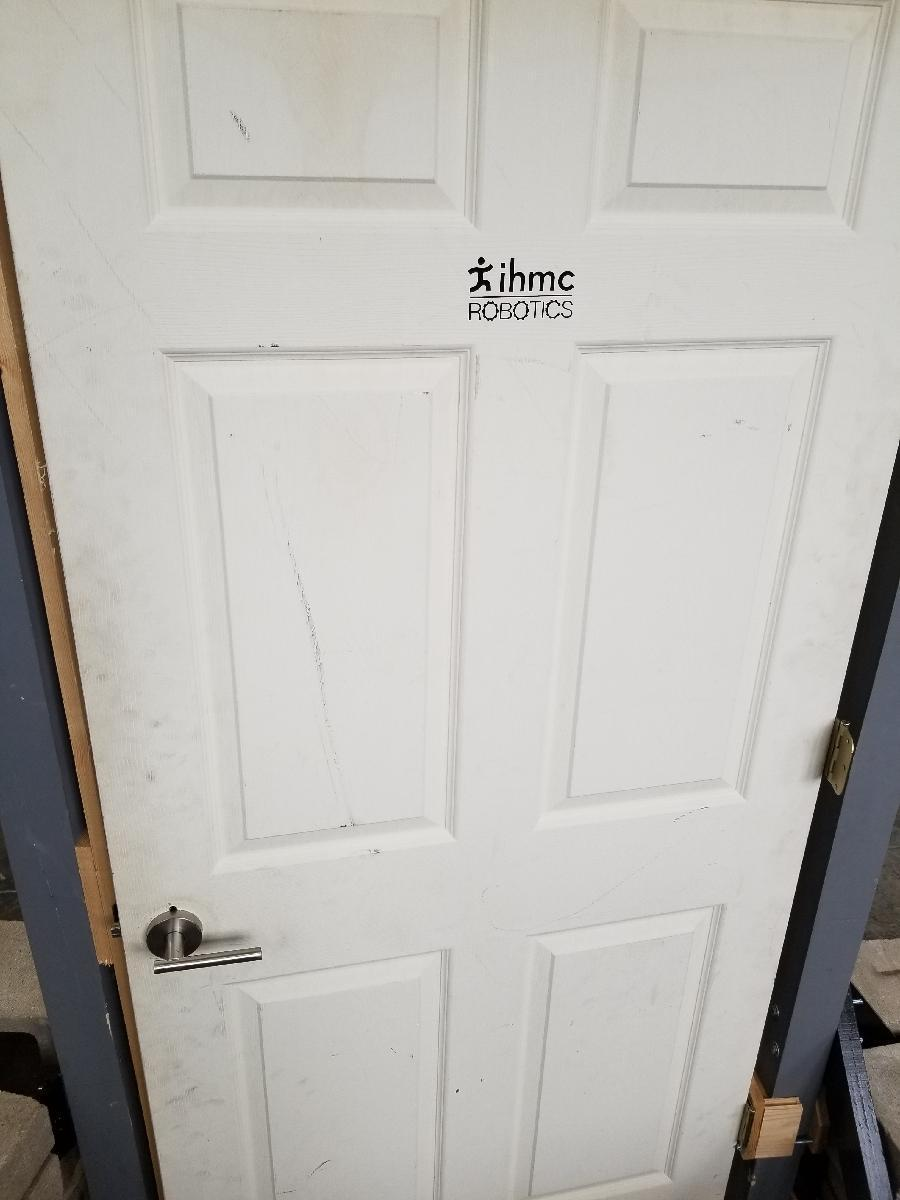door: (46, 0, 853, 1200)
handle: (148, 908, 266, 977)
